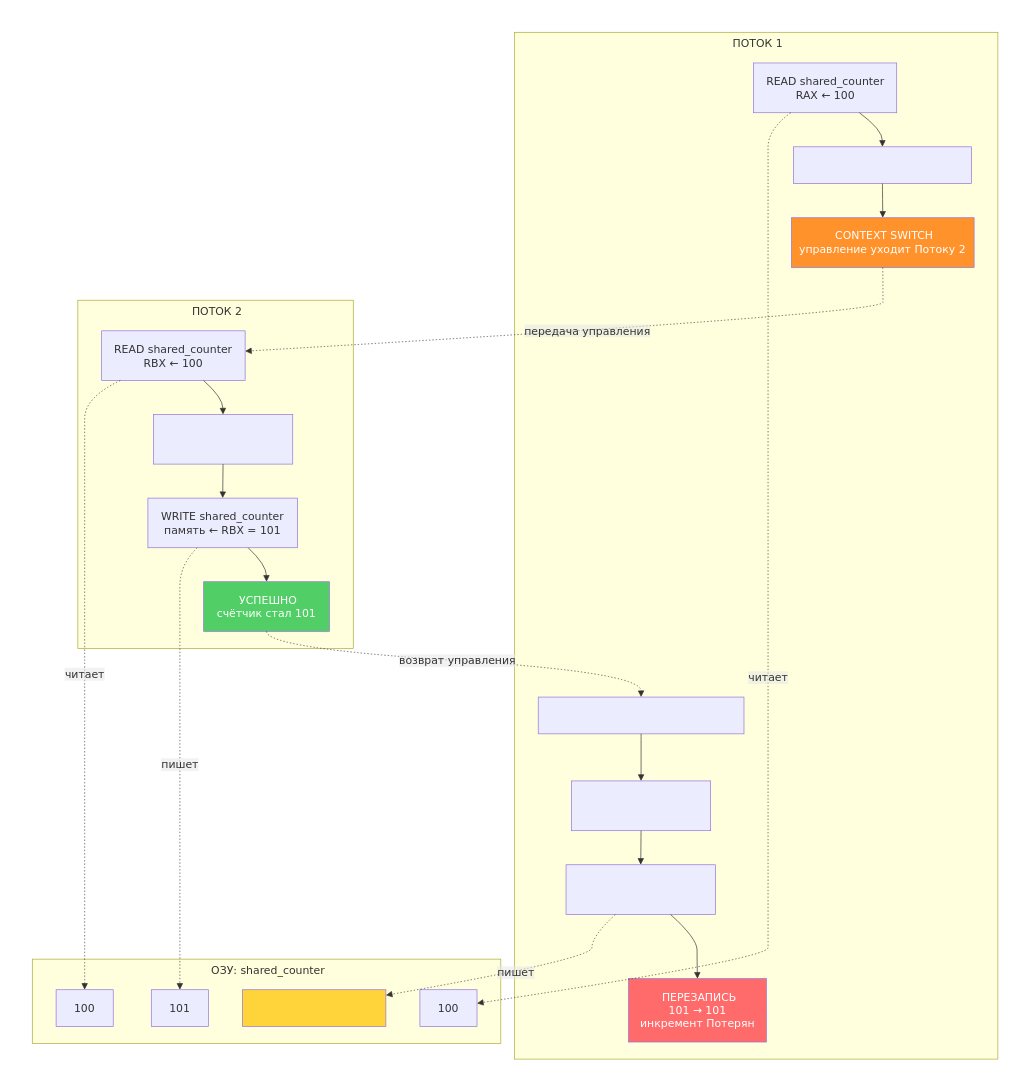
Image size: 1010x1071. Some labels were removed from this diagram. Here are the shapes that lost their labels. From the top down, the box of each, then its label:
(793, 146, 971, 184): "[СОХРАНЕНИЕ КОНТЕКСТА
(153, 414, 293, 464): ADD 1 RBX ← 100 + 1 = 101
(538, 696, 744, 734): "[ВОССТАНОВЛЕНИЕ КОНТЕКСТА
(571, 780, 711, 831): ADD 1 RAX ← 100 + 1 = 101
(565, 864, 715, 915): WRITE shared_counter память ← RAX = 101
(242, 989, 386, 1026): 101 (ожидалось 102)
